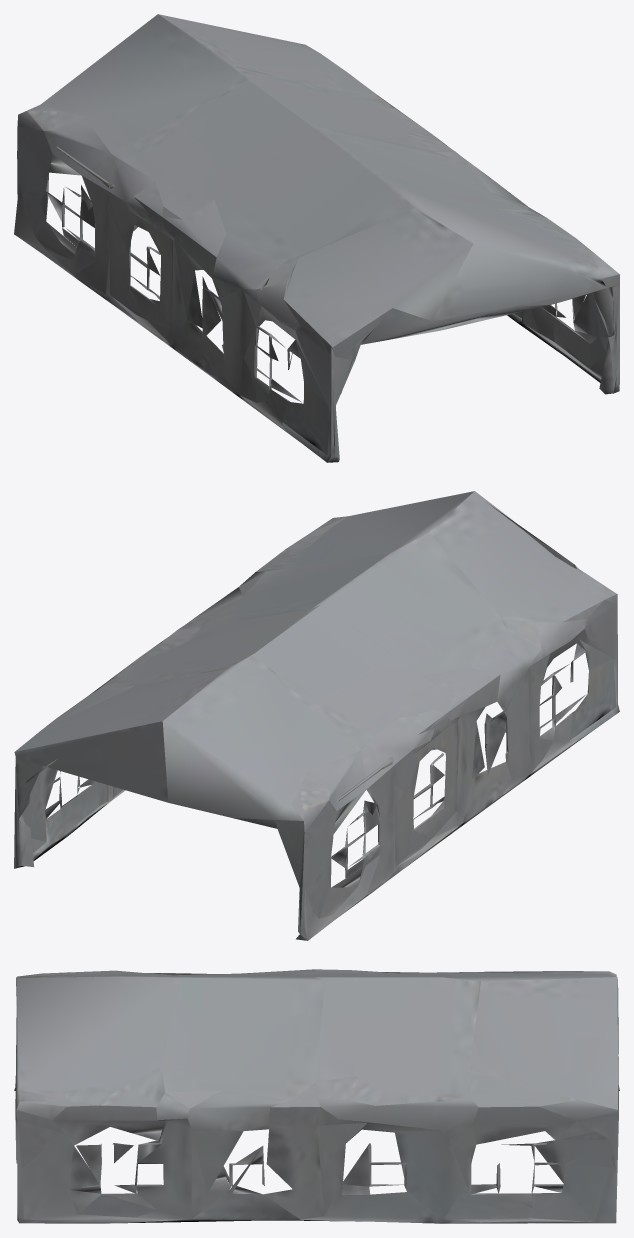
File: tenda_roder_besar_lod2.glb
3 views of the same model, one above another, from view 1: azimuth 30°, elevation 25°; view 2: azimuth 150°, elevation 25°; view 3: azimuth 270°, elevation 25° (orthographic). The views are drawn at different scales.
Visible parts, largest first — view 1: tripo_node_1d90eb70; view 2: tripo_node_1d90eb70; view 3: tripo_node_1d90eb70.
Boxes of the visible parts, <box> form: tripo_node_1d90eb70: <box>14,14,619,462</box>; tripo_node_1d90eb70: <box>14,491,619,940</box>; tripo_node_1d90eb70: <box>14,969,619,1223</box>.
Bounding box in the file's own units: 53.65 × 32.1 × 99.66.
1 material, 1 textured.
